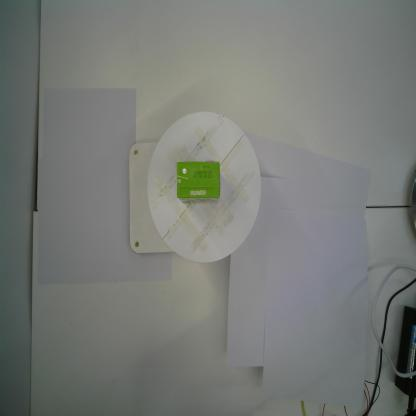Milk: (175, 158, 222, 204)
